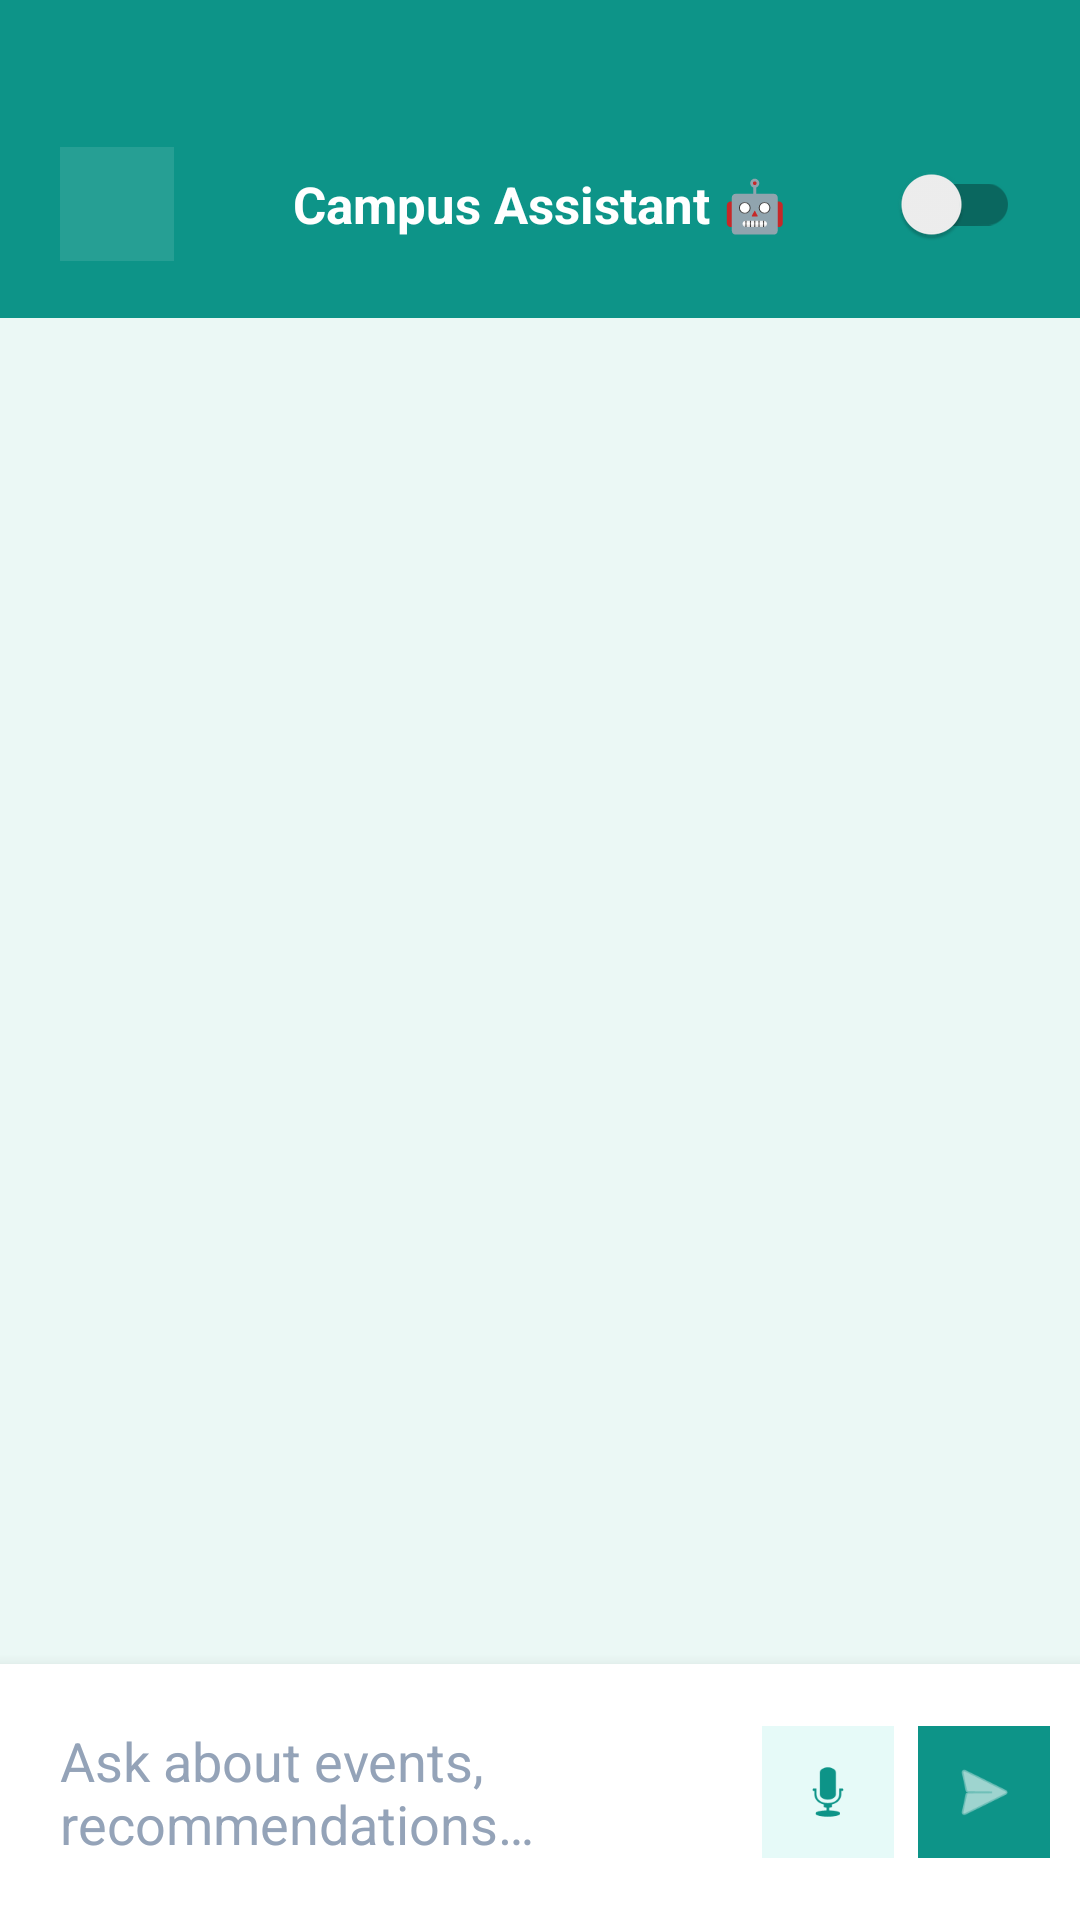

Icon bounding boxes for this 1080w x 1920h phone screenshot, format [x1, y1, x2, y2]:
Send: [918, 1726, 1050, 1858]
Speak: [762, 1726, 894, 1858]
